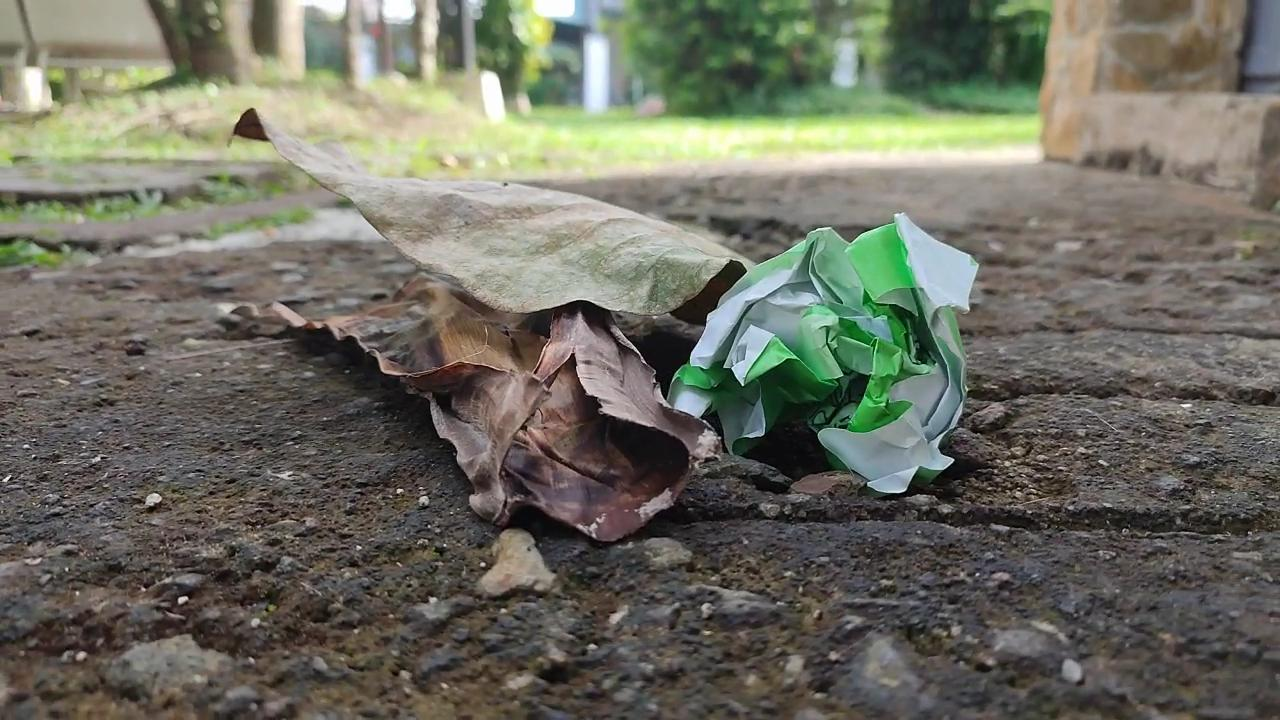Paper: (661, 198, 994, 509)
